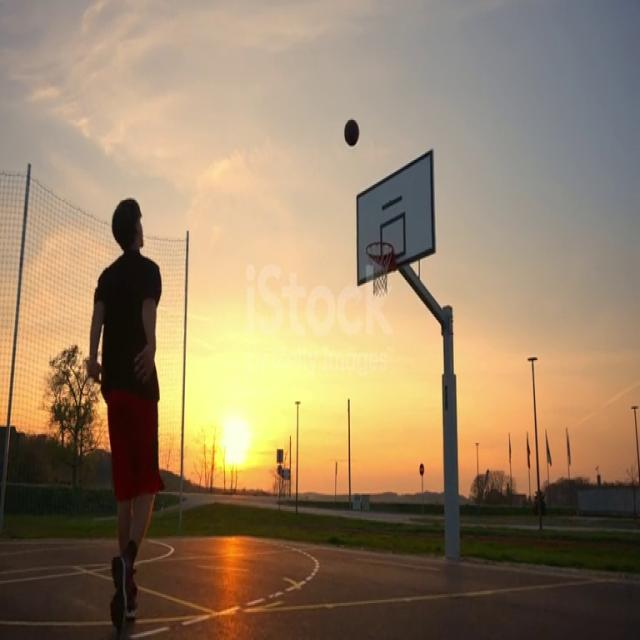ball: (344, 117, 359, 147)
